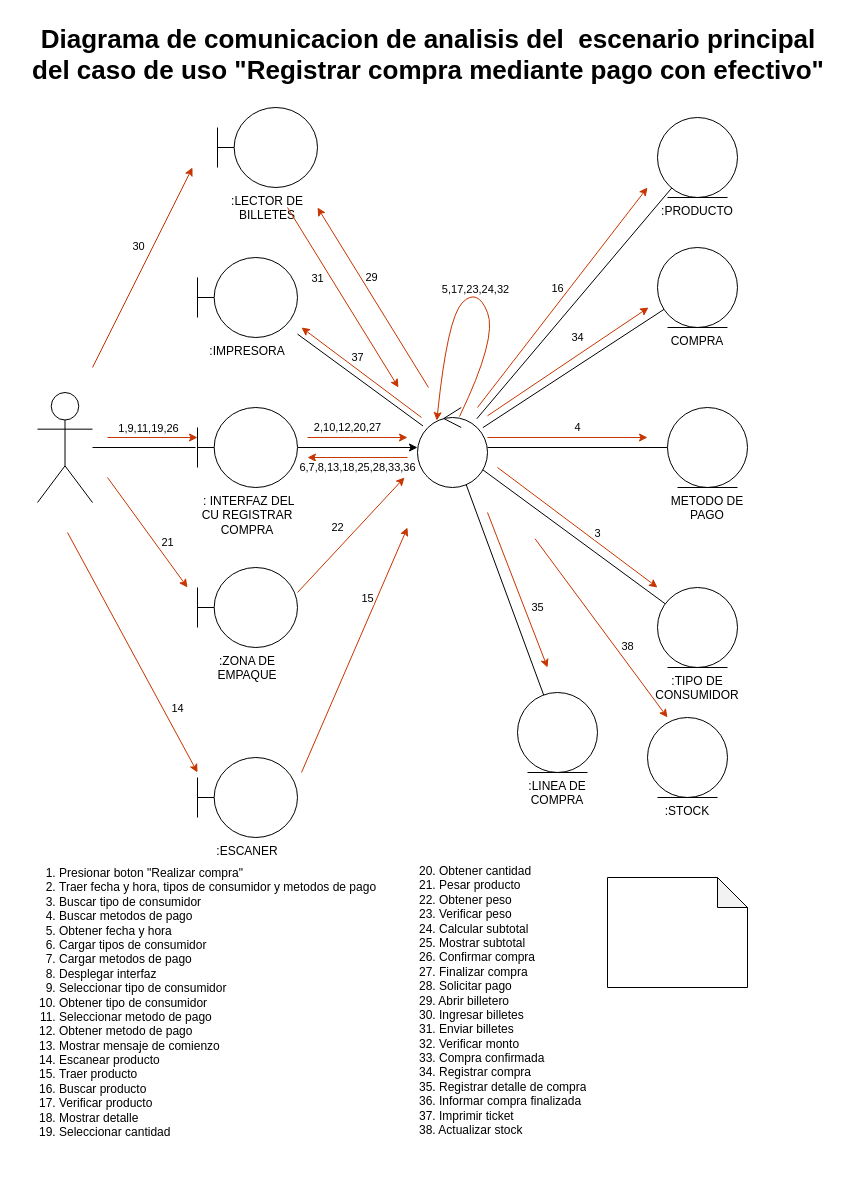
Image size: 844x1177. Some labels were removed from this diagram. The shapes that lost their labels are listed below. From the top down, each one's centre as x and y in pixels, then its label:
At point (64, 447): ":CLIENTE".
At point (452, 447): ": GESTOR DEL CU REGISTRAR COMPRA".
At point (677, 932): "para cada producto se repiten los pasos 14 a 25".
